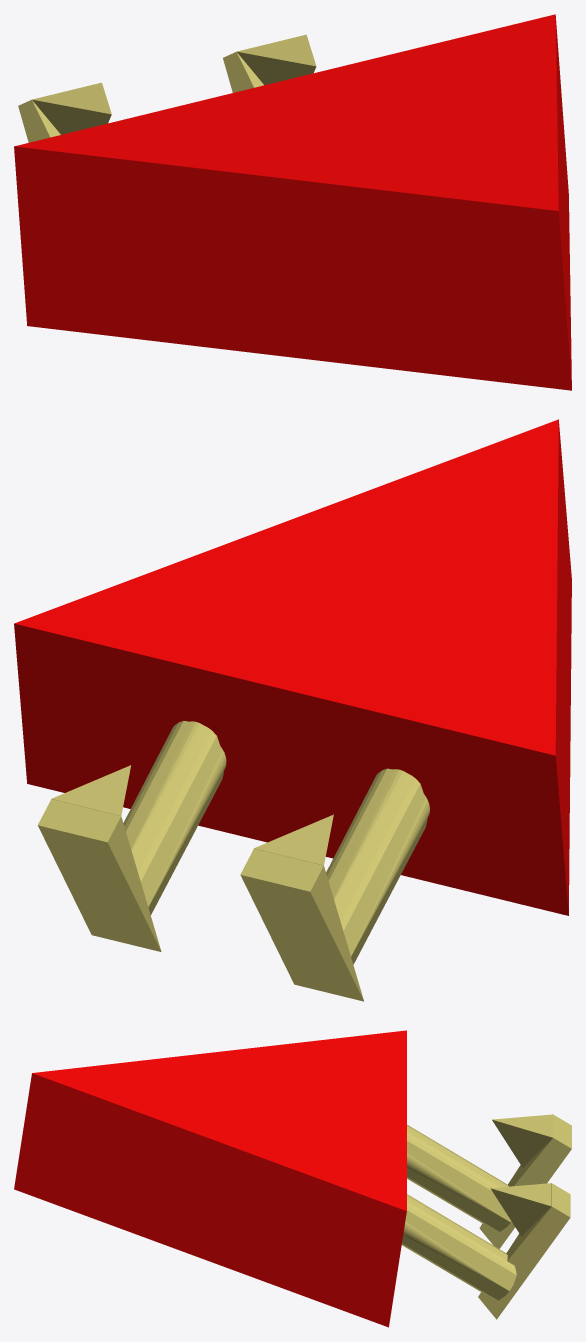
The model's file is Triangle enemy melee.fbx.
The picture shows the model from 3 angles, top to bottom: view 1: azimuth 30°, elevation 25°; view 2: azimuth 150°, elevation 25°; view 3: azimuth 270°, elevation 25°; orthographic projection. The views are drawn at different scales.
Parts seen in each view (by area): view 1: Plane, Cube.001; view 2: Plane, Cube.001; view 3: Plane, Cube.001.
Boxes of the visible parts, <box> form: Plane: <box>14,14,571,390</box>; Cube.001: <box>18,34,316,142</box>; Plane: <box>14,419,571,915</box>; Cube.001: <box>37,721,429,1001</box>; Plane: <box>14,1030,406,1327</box>; Cube.001: <box>401,1114,571,1319</box>.
Bounding box in the file's own units: 312 × 164 × 407.
